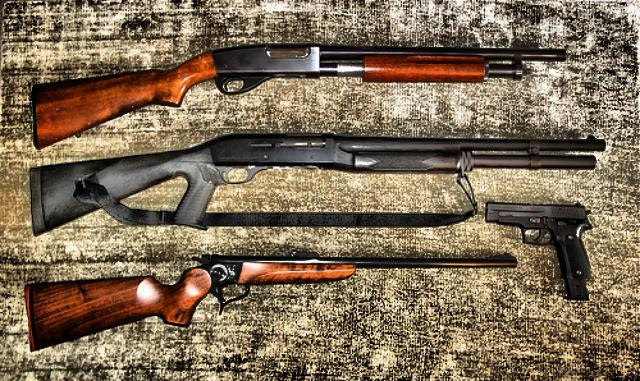pistol: (484, 198, 592, 280)
